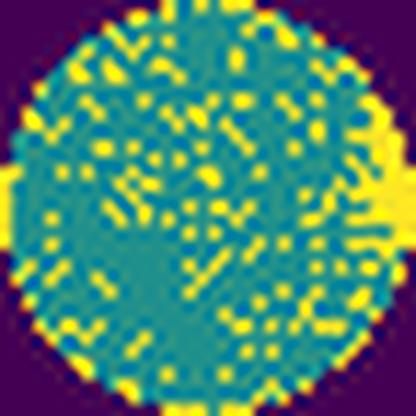Edge-Loc: (332, 85, 416, 282)
